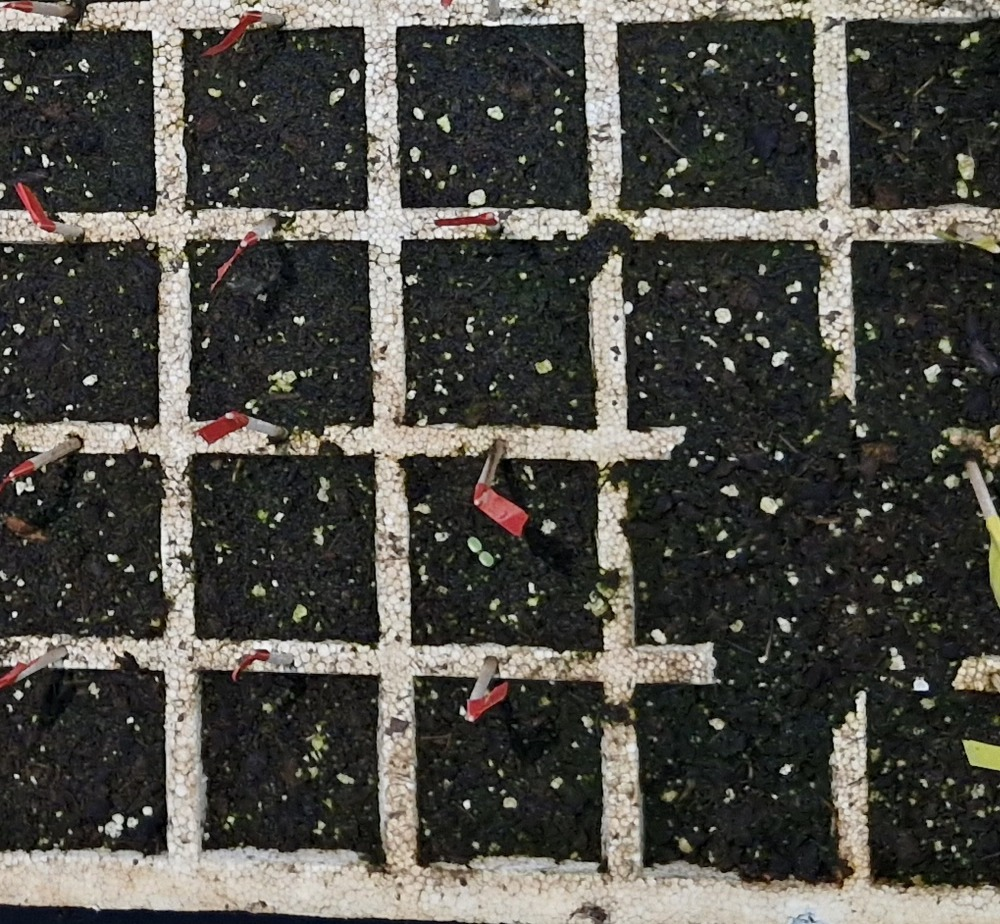Folha: (467, 537, 482, 552), (479, 552, 494, 566)
Germinacao: (466, 537, 494, 566)
